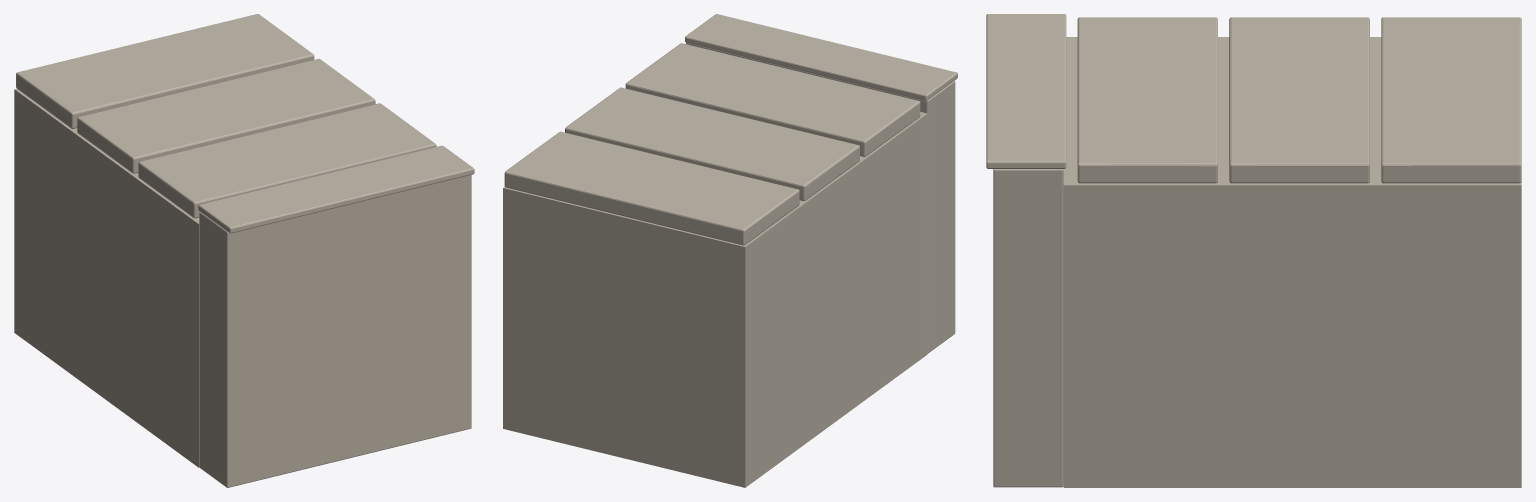
Rendered from street_terrace_wall_plain.fbx.
The picture shows the model from 3 angles, left to right: view 1: azimuth 30°, elevation 25°; view 2: azimuth 150°, elevation 25°; view 3: azimuth 270°, elevation 25°; orthographic projection. The views are drawn at different scales.
Visible parts, largest first — view 1: Street_TerraceWall_Plain; view 2: Street_TerraceWall_Plain; view 3: Street_TerraceWall_Plain.
Part boxes in pixels (x1,y1,x2,y2): Street_TerraceWall_Plain: (14,14,474,487); Street_TerraceWall_Plain: (503,14,957,487); Street_TerraceWall_Plain: (986,14,1521,487).
Bounding box in the file's own units: 250 × 256 × 381.
